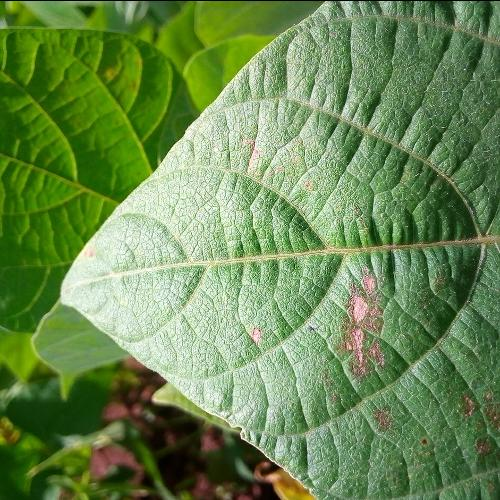sehat: (109, 115, 422, 388)
